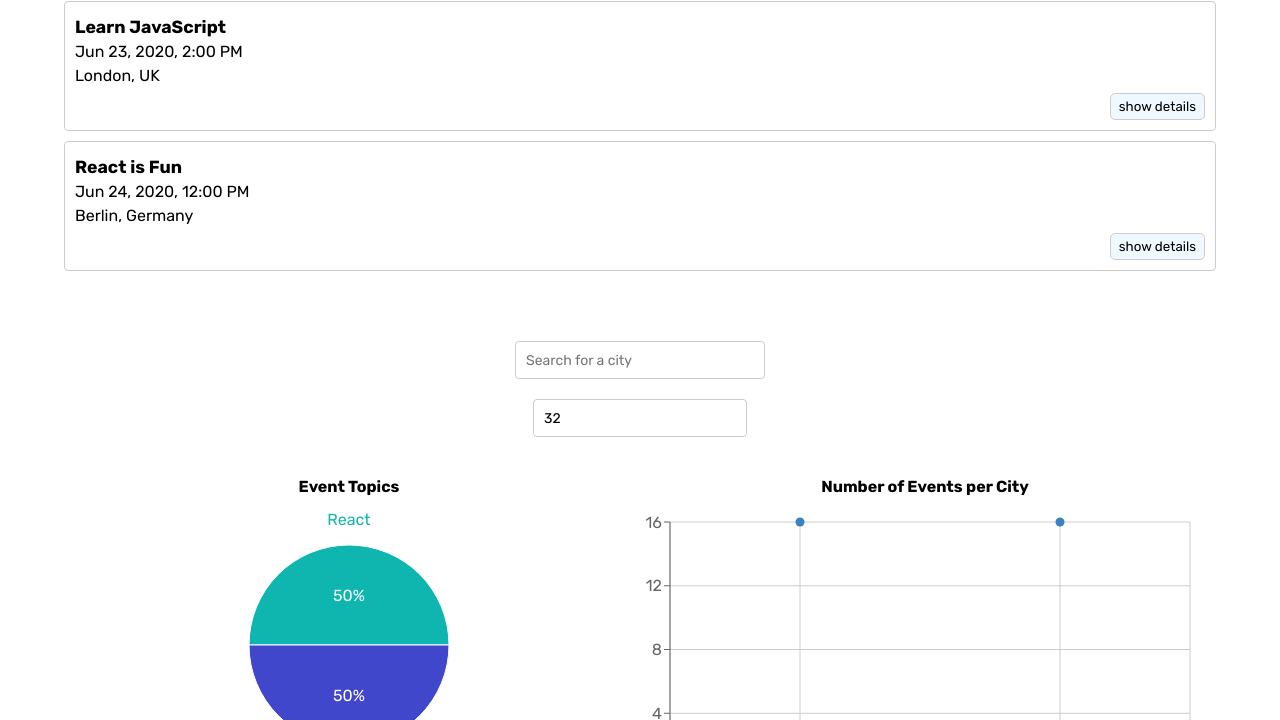
Test case: <App /> integration › renders a list of events matching the city selected by the user
The image size is (1280, 720).
(page scrolled)
Type "Berlin" into the field at (640,360), box [515,341,765,379]
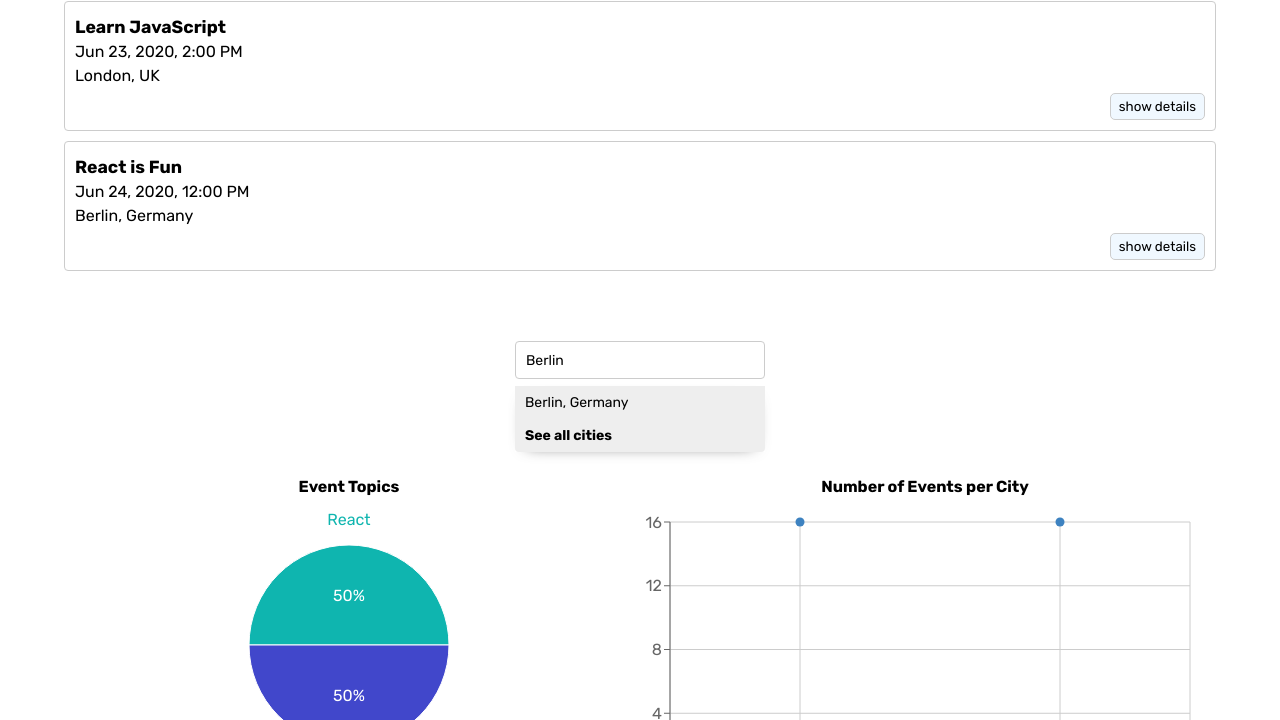
Click the list item "Berlin, Germany" at (640,403), box [515,386,765,419]
(page scrolled)
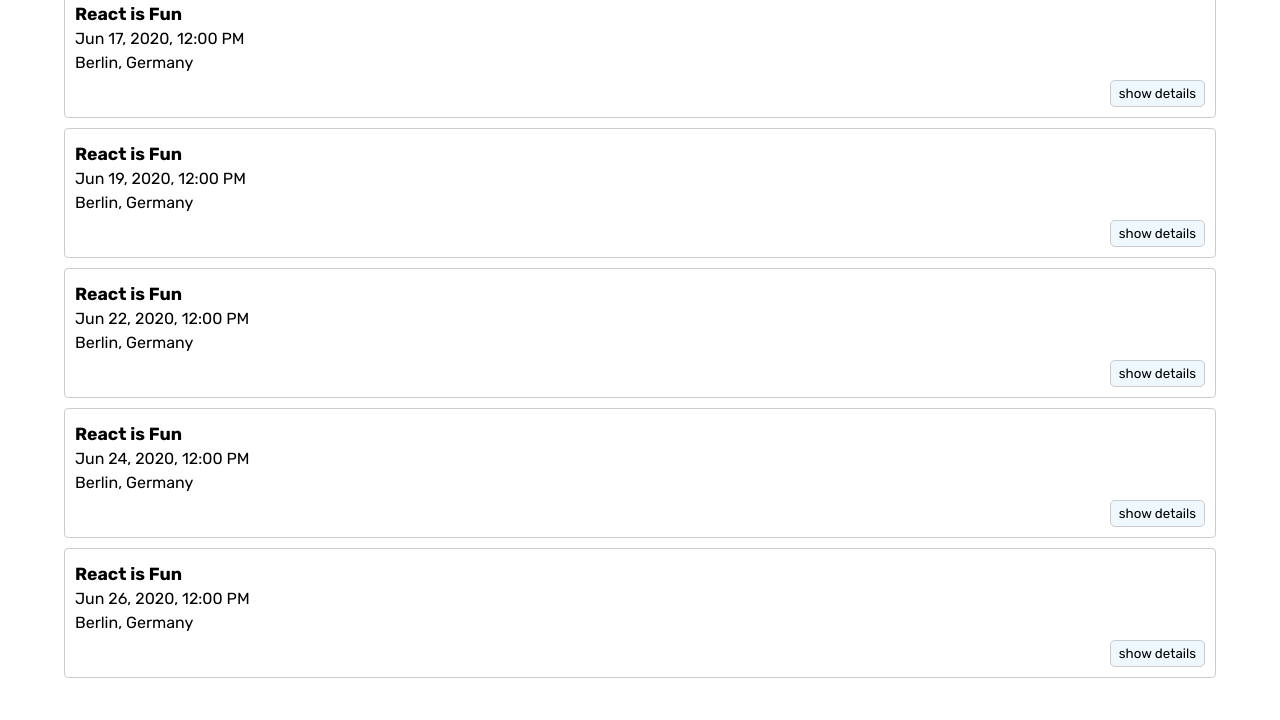
Check: the 1st list item shows "Berlin, Germany", box [75,53,193,72]
Check: the 5th list item shows "Berlin, Germany", box [75,613,193,632]
